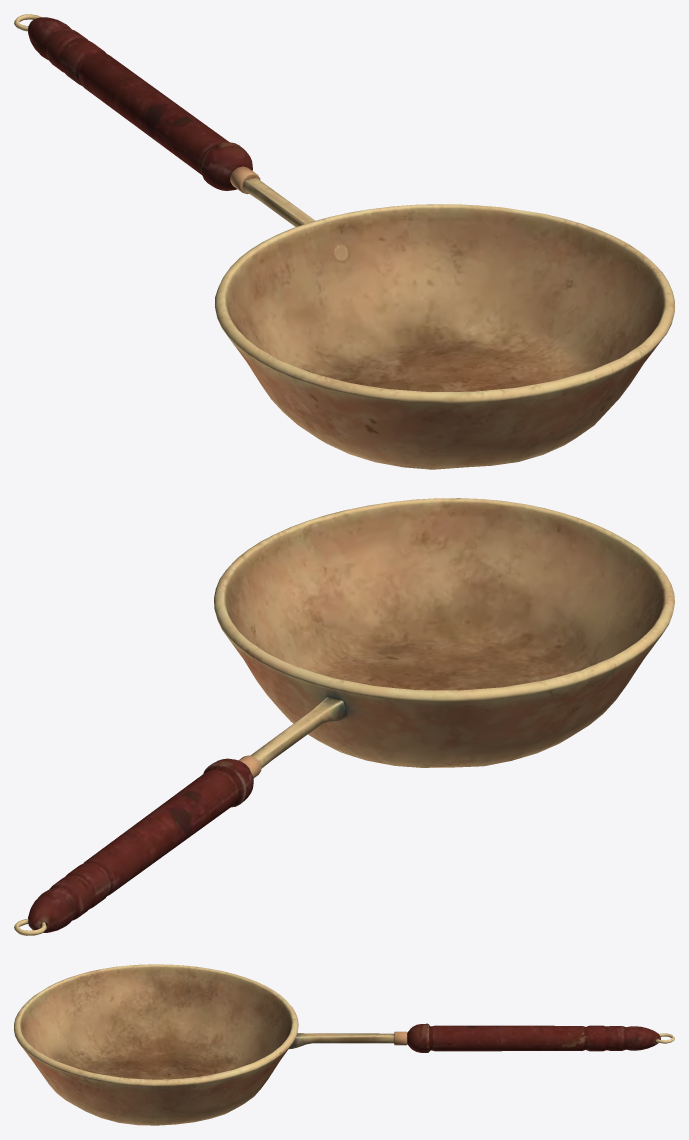
The model's file is brass_pan_01.glb.
3 views of the same model, one above another, from view 1: azimuth 30°, elevation 25°; view 2: azimuth 150°, elevation 25°; view 3: azimuth 270°, elevation 25° (orthographic). The views are drawn at different scales.
Visible parts, largest first — view 1: brass_pan_01; view 2: brass_pan_01; view 3: brass_pan_01.
Boxes of the visible parts, x1,y1,x2,y2 form: brass_pan_01: (14, 14, 674, 469); brass_pan_01: (14, 498, 674, 935); brass_pan_01: (14, 964, 674, 1125).
Bounding box in the file's own units: 0.1913 × 0.0525 × 0.4497.
Materials: 1 (1 with a texture image).
